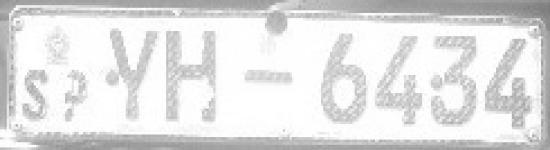-: (244, 67, 292, 89)
3: (430, 37, 478, 127)
4: (490, 36, 535, 127), (378, 36, 422, 123)
6: (314, 29, 374, 124)
H: (162, 26, 228, 125)
P: (60, 69, 88, 120)
S: (24, 69, 49, 119)
Y: (102, 24, 163, 122)
